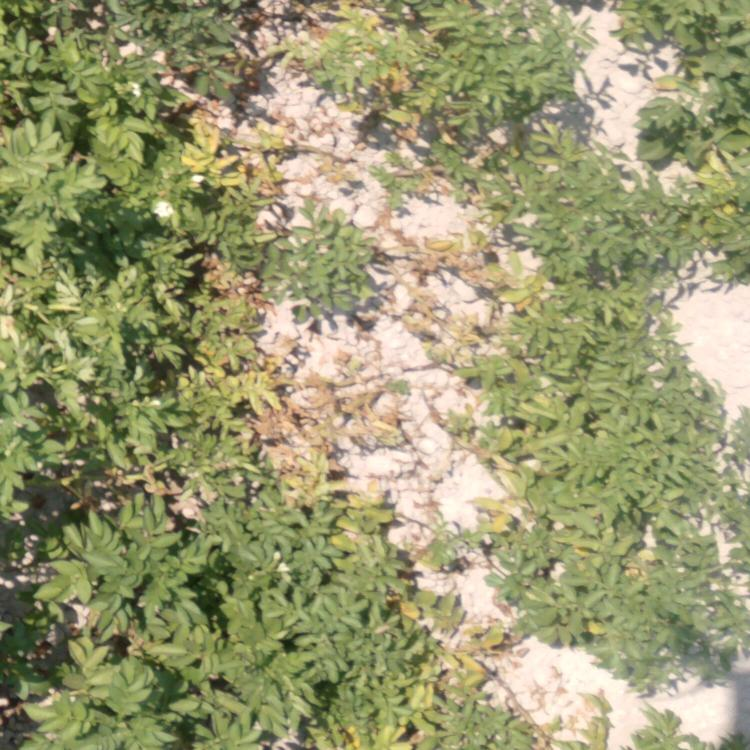healthy: (1, 512, 305, 742), (1, 2, 148, 241), (1, 255, 124, 512), (584, 314, 713, 505)
stressed: (486, 490, 728, 687), (305, 1, 574, 160), (148, 242, 298, 504), (314, 497, 459, 750), (628, 1, 746, 289), (152, 1, 289, 232), (426, 156, 622, 299), (438, 307, 555, 497), (299, 202, 388, 342), (479, 644, 554, 750)
